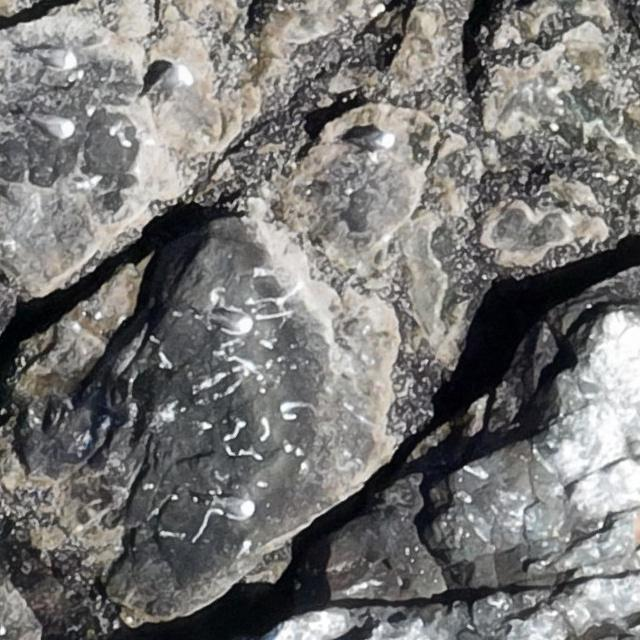umineko: (150, 64, 192, 98), (29, 112, 75, 141), (214, 308, 253, 337), (214, 496, 256, 522), (33, 48, 75, 70), (354, 132, 397, 152)
